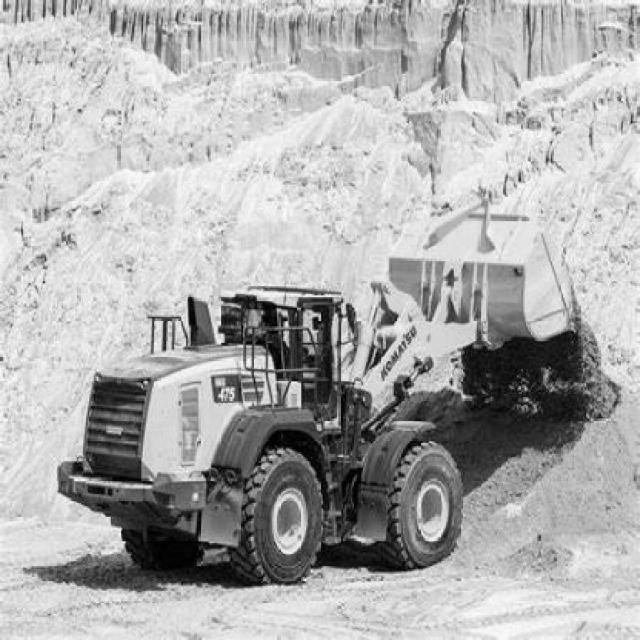Construction Equipment: (57, 199, 579, 587)
